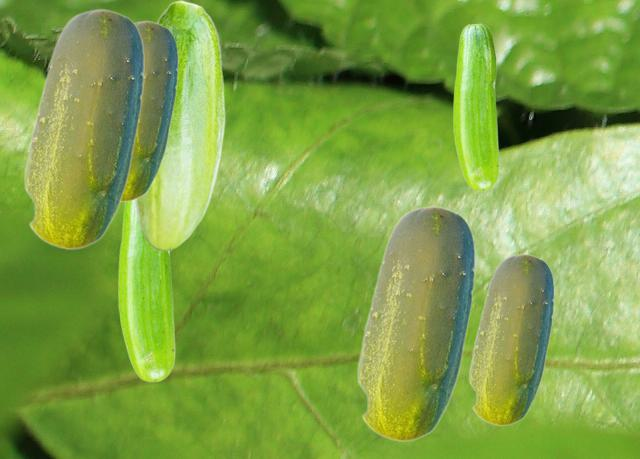cucumber: (23, 8, 143, 249), (356, 205, 474, 441), (133, 0, 224, 250), (468, 253, 553, 425), (118, 202, 174, 381), (122, 20, 177, 201), (453, 23, 498, 190)
